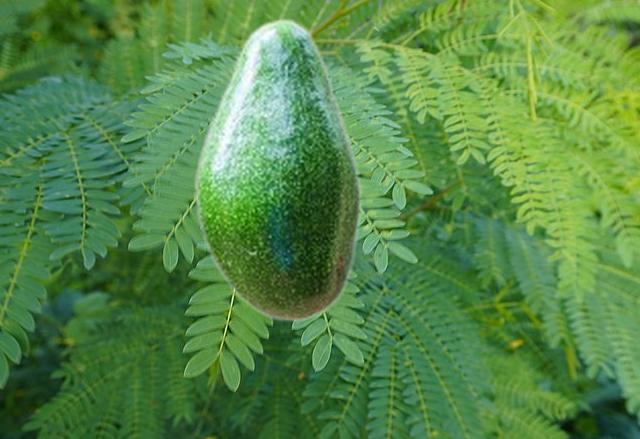avocado: (192, 17, 361, 322)
